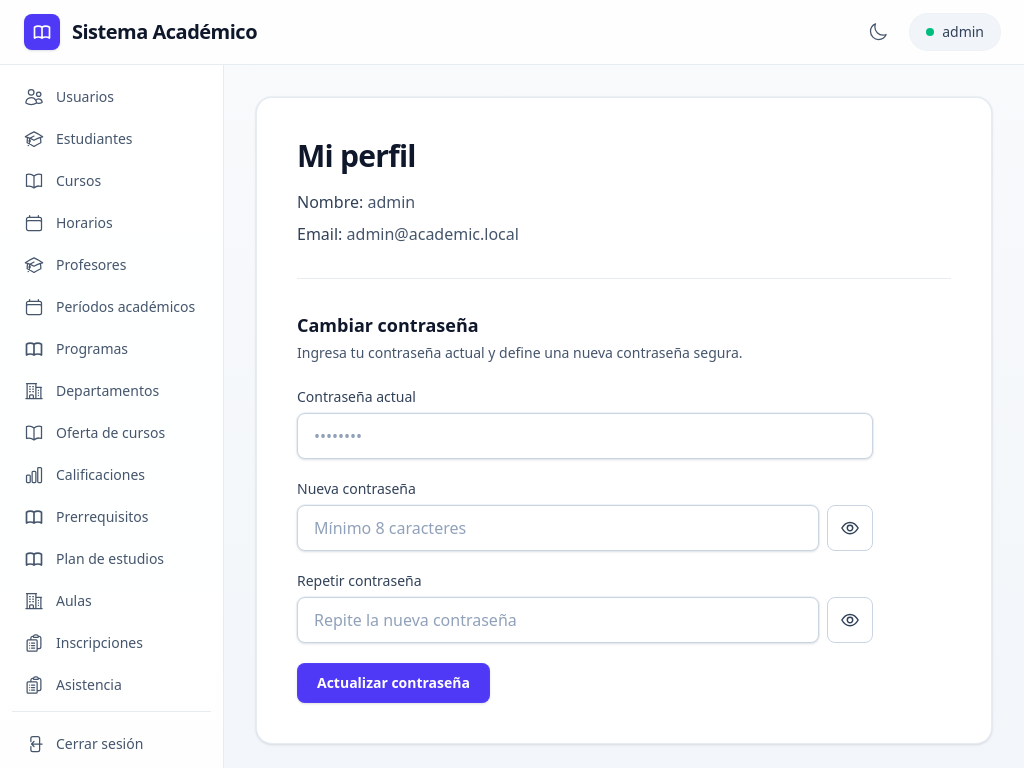
Scenario: MiPerfilPage › envía el formulario y muestra mensaje de éxito
Type "Actual123!" into the password field labelled "Contraseña actual".
click(585, 436); type("Actual123!")  # box top-left (297, 413), bottom-right (873, 459)
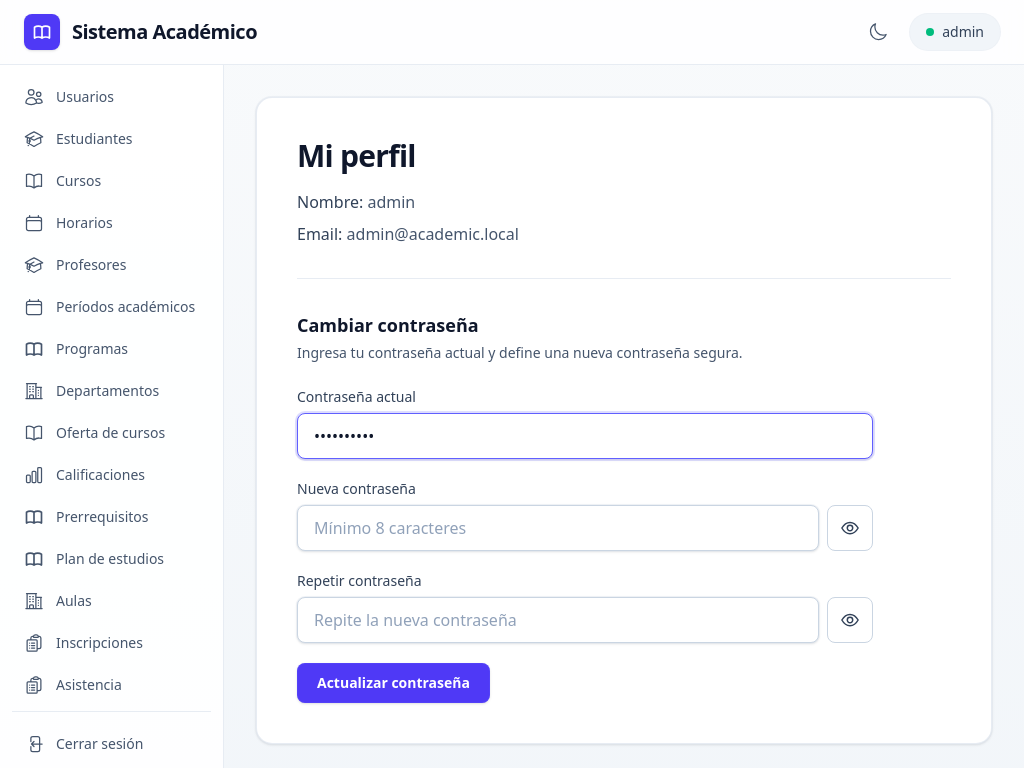
Type "Nueva123!" into the password field labelled "Nueva contraseña".
click(558, 528); type("Nueva123!")  # box top-left (297, 505), bottom-right (819, 551)
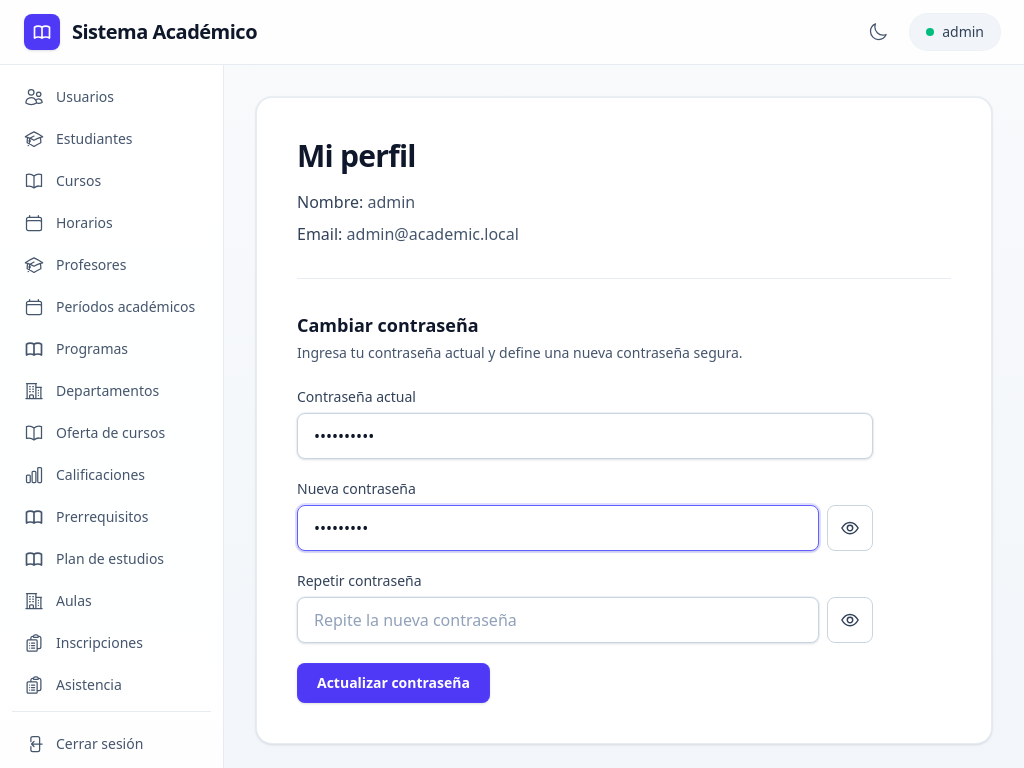
Type "Nueva123!" into the password field labelled "Repetir contraseña".
click(558, 620); type("Nueva123!")  # box top-left (297, 597), bottom-right (819, 643)
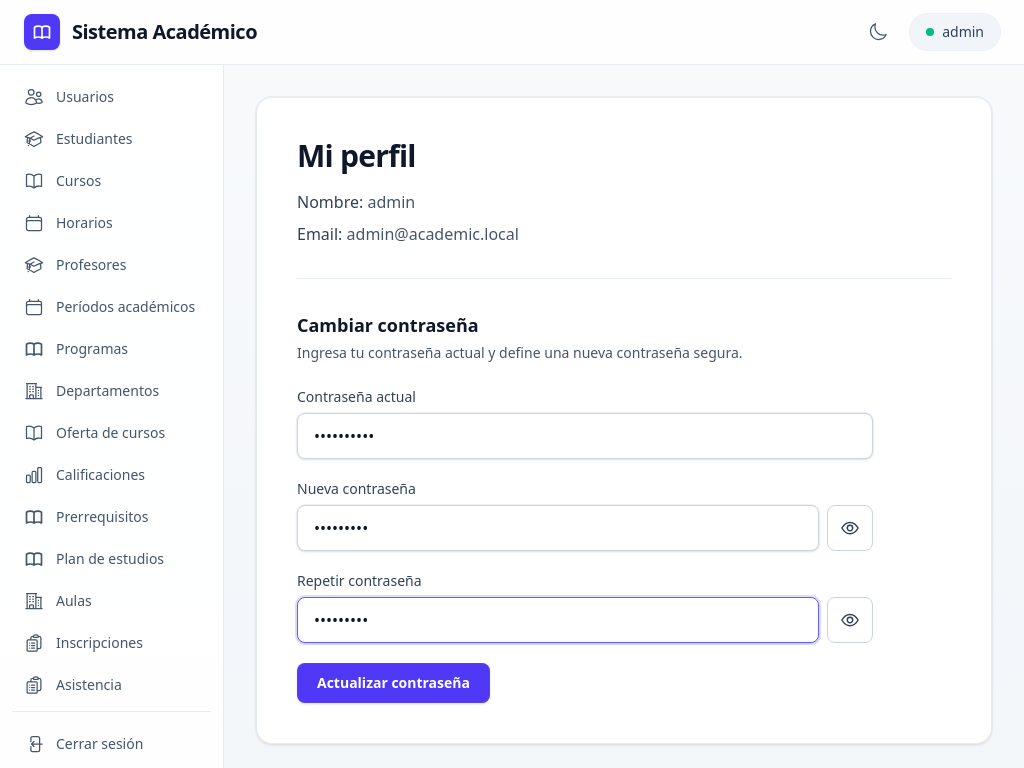
Click the button "Actualizar contraseña".
click(394, 683)  # box top-left (297, 663), bottom-right (490, 703)
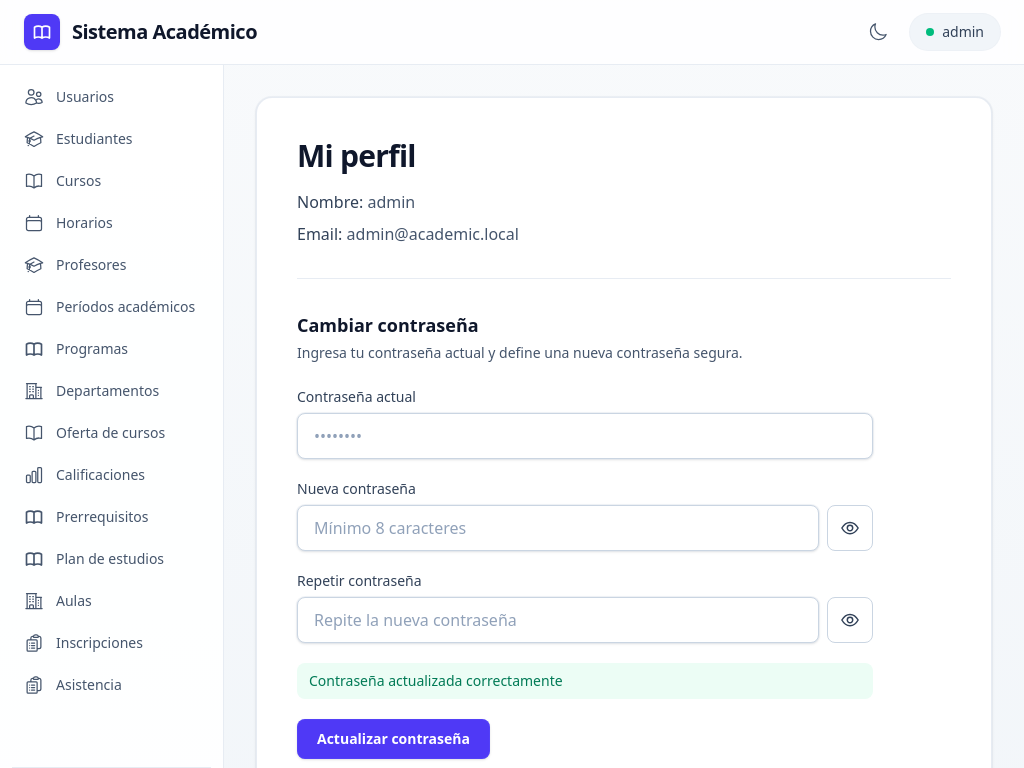
Check: the text "Contraseña actualizada correctamente" is shown, box top-left (297, 663), bottom-right (873, 699)
